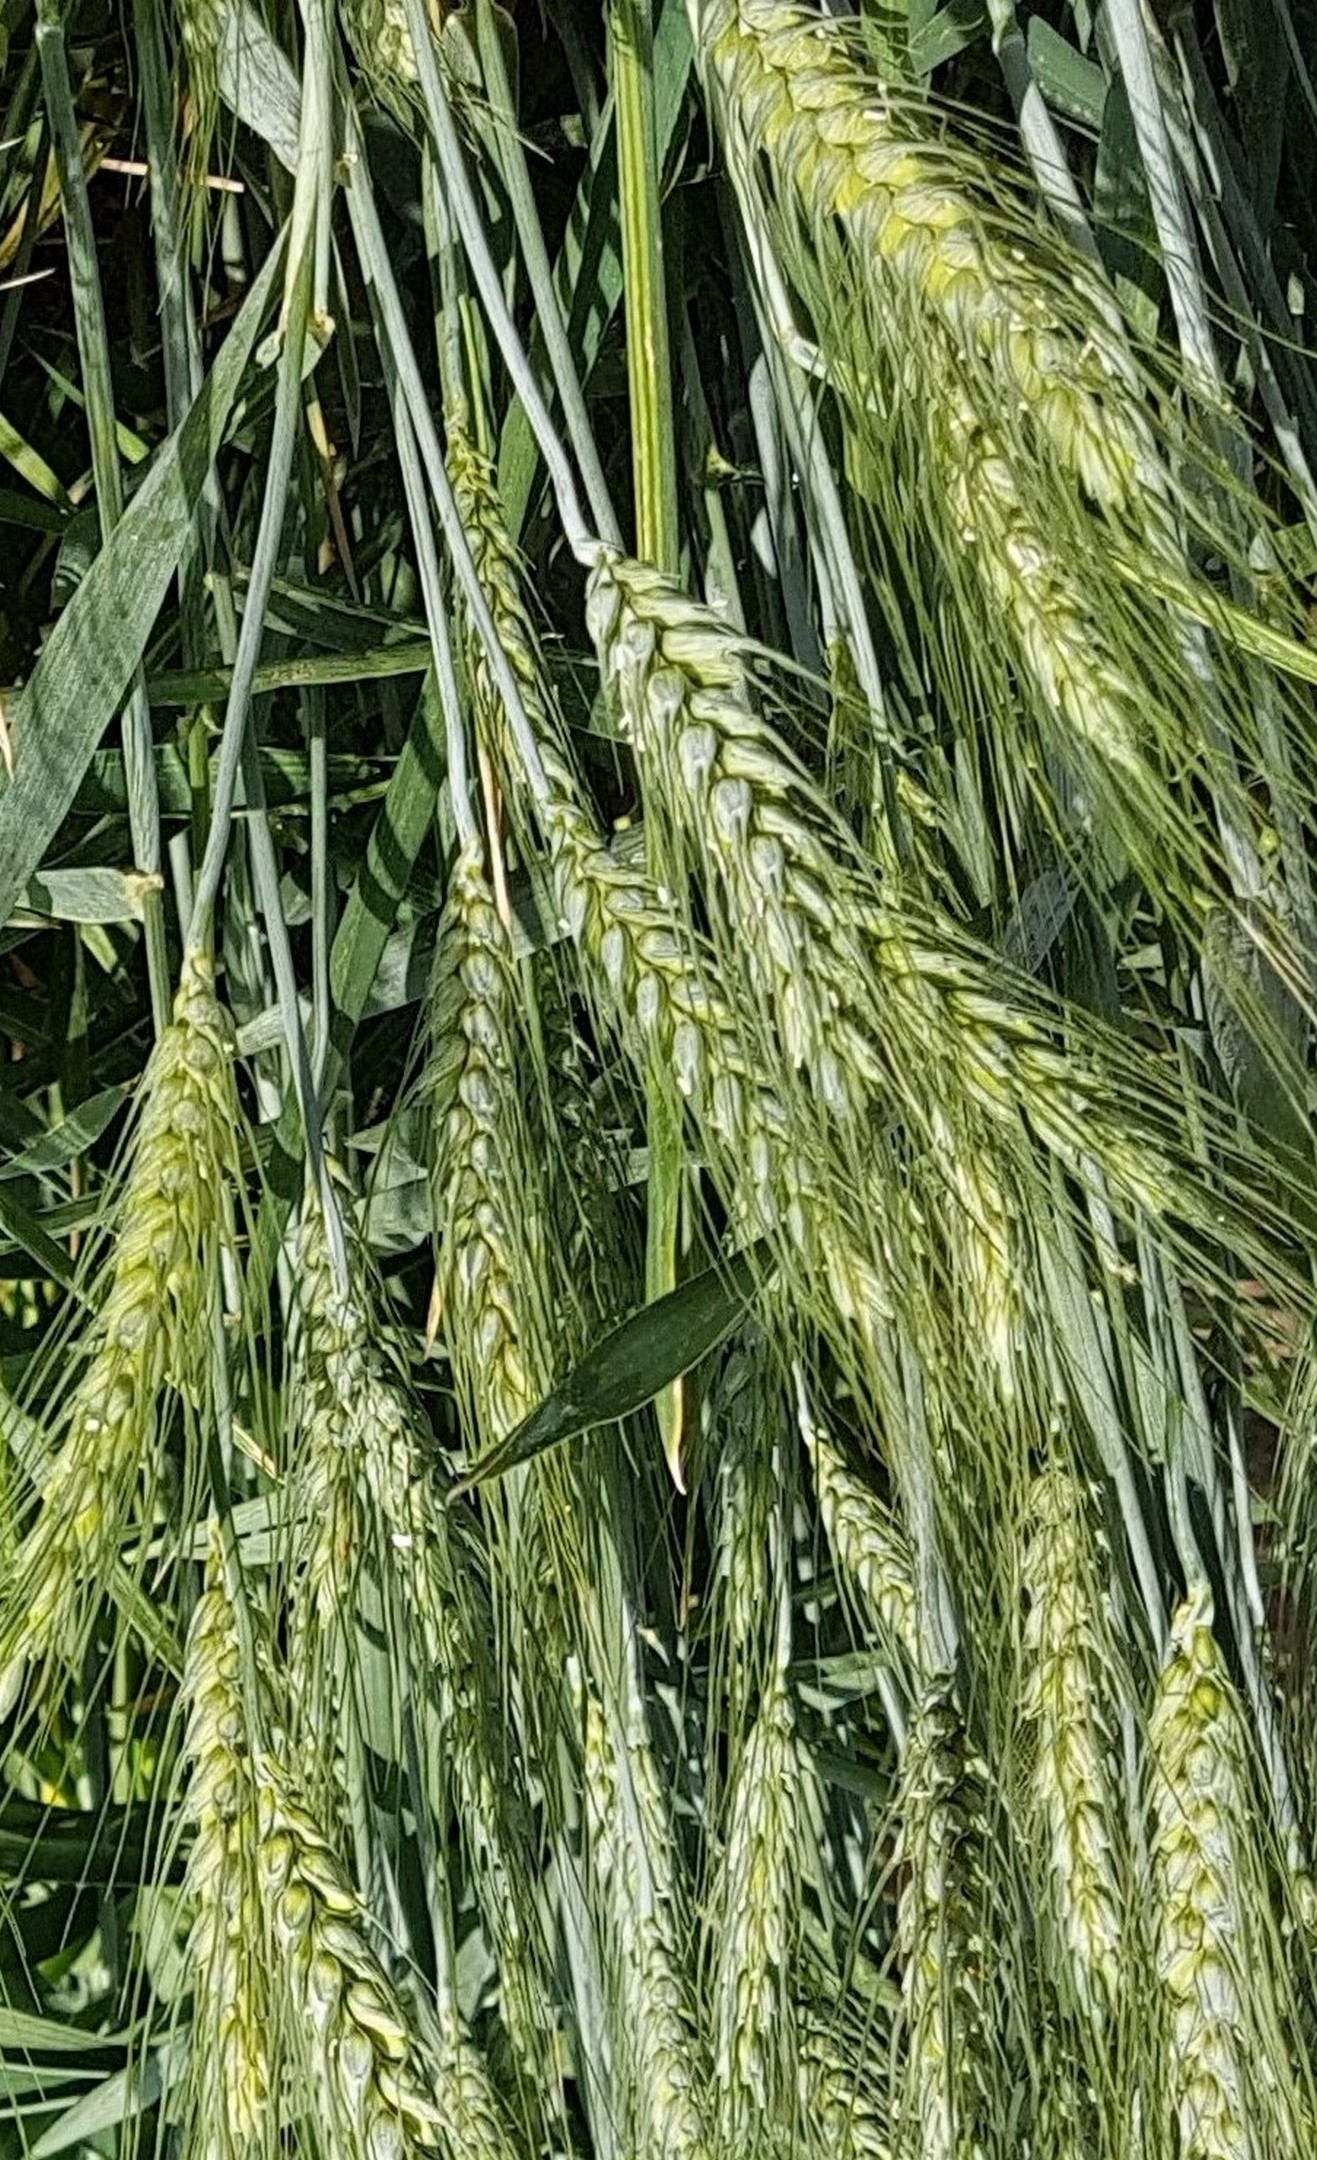Healthy Wheat: (720, 2, 1228, 538), (543, 531, 928, 1196), (999, 1452, 1302, 2152), (72, 987, 278, 1406)
